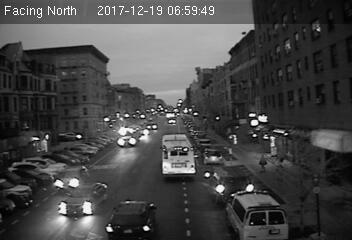bus: (158, 132, 198, 178)
car: (105, 197, 161, 240), (56, 183, 113, 216), (207, 168, 258, 202), (54, 164, 91, 192), (201, 149, 225, 164)
police: (224, 188, 292, 240)
